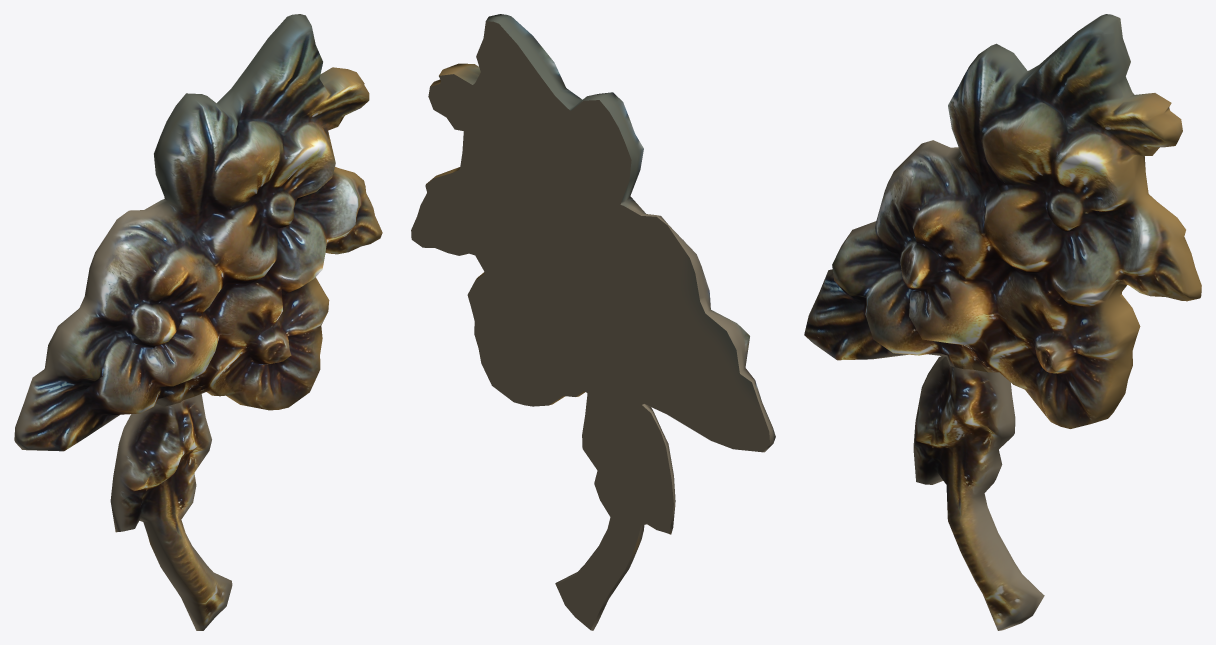
The model's file is Art2473.fbx.
The picture shows the model from 3 angles, left to right: view 1: azimuth 30°, elevation 25°; view 2: azimuth 150°, elevation 25°; view 3: azimuth 330°, elevation 25°; orthographic projection. The views are drawn at different scales.
Visible parts, largest first — view 1: Mesh_2; view 2: Mesh_2; view 3: Mesh_2.
Boxes of the visible parts, left/top/right/bottom form: Mesh_2: left=14, top=14, right=382, bottom=630; Mesh_2: left=411, top=14, right=775, bottom=630; Mesh_2: left=804, top=14, right=1201, bottom=630.
Bounding box in the file's own units: 7.03 × 10.94 × 1.01.
1 material, 1 textured.
